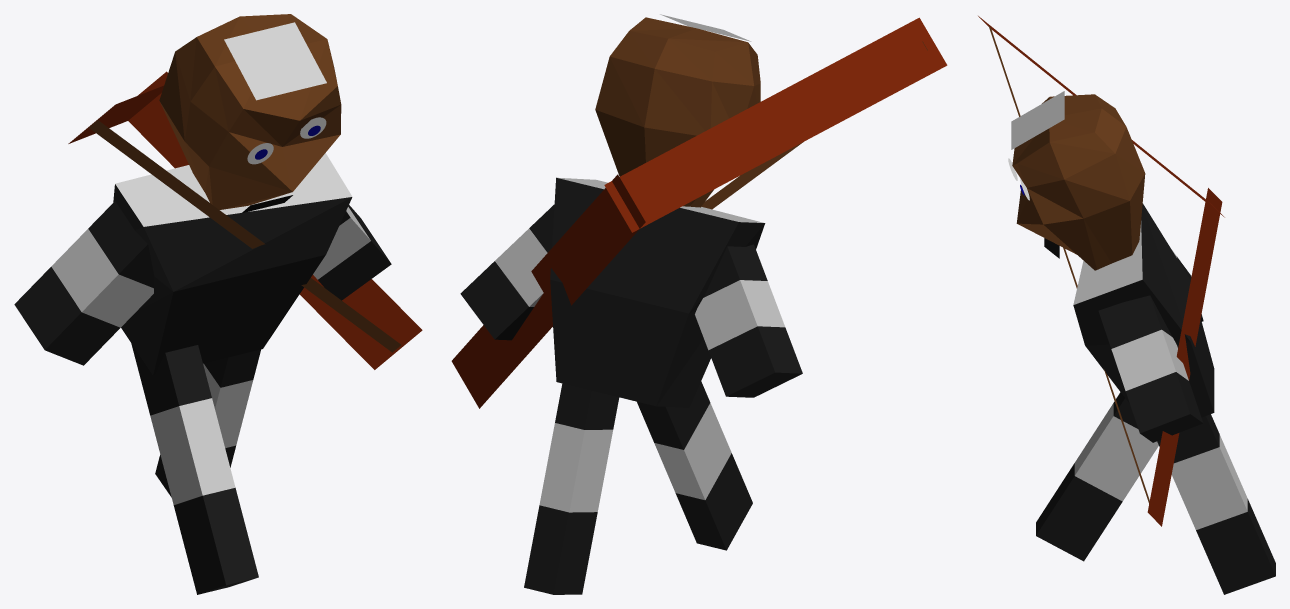
The model's file is heavyarcher1d.obj.
The picture shows the model from 3 angles, left to right: view 1: azimuth 30°, elevation 25°; view 2: azimuth 150°, elevation 25°; view 3: azimuth 270°, elevation 25°; orthographic projection. The views are drawn at different scales.
Visible parts, largest first — view 1: Cube.001, Cube, Cube.004, Cube.003, Plane.001_Plane.002, Plane.004_Plane.001, Plane.003_Plane.004, Cube.002, Cube.005, Plane.002_Plane.003; view 2: Cube.001, Plane.002_Plane.003, Cube, Cube.005, Plane.001_Plane.002, Cube.003, Cube.004, Cube.002, Plane.003_Plane.004; view 3: Cube, Cube.001, Cube.005, Cube.004, Cube.002, Plane.001_Plane.002, Plane.004_Plane.001, Plane.003_Plane.004, Plane.002_Plane.003.
Boxes of the visible parts, bbox=[...] form: Cube.001: bbox=[113, 153, 352, 375]; Cube: bbox=[159, 14, 341, 209]; Cube.004: bbox=[131, 343, 258, 594]; Cube.003: bbox=[14, 201, 154, 365]; Plane.001_Plane.002: bbox=[128, 71, 422, 369]; Plane.004_Plane.001: bbox=[224, 22, 326, 100]; Plane.003_Plane.004: bbox=[89, 120, 400, 352]; Cube.002: bbox=[313, 205, 391, 300]; Cube.005: bbox=[155, 349, 260, 497]; Plane.002_Plane.003: bbox=[68, 85, 163, 143]; Cube.001: bbox=[550, 177, 765, 407]; Plane.002_Plane.003: bbox=[604, 17, 947, 232]; Cube: bbox=[595, 17, 760, 207]; Cube.005: bbox=[524, 383, 619, 594]; Plane.001_Plane.002: bbox=[451, 174, 645, 408]; Cube.003: bbox=[695, 244, 802, 397]; Cube.004: bbox=[637, 381, 752, 550]; Cube.002: bbox=[460, 204, 554, 340]; Plane.003_Plane.004: bbox=[701, 41, 927, 209]; Cube: bbox=[1012, 94, 1145, 270]; Cube.001: bbox=[1073, 203, 1214, 417]; Cube.005: bbox=[1157, 414, 1275, 594]; Cube.004: bbox=[1036, 392, 1158, 561]; Cube.002: bbox=[1098, 295, 1203, 442]; Plane.001_Plane.002: bbox=[1147, 188, 1222, 526]; Plane.004_Plane.001: bbox=[1011, 91, 1064, 149]; Plane.003_Plane.004: bbox=[988, 25, 1149, 503]; Plane.002_Plane.003: bbox=[978, 16, 1224, 217].
Bounding box in the file's own units: 4.75 × 5.83 × 3.31.
